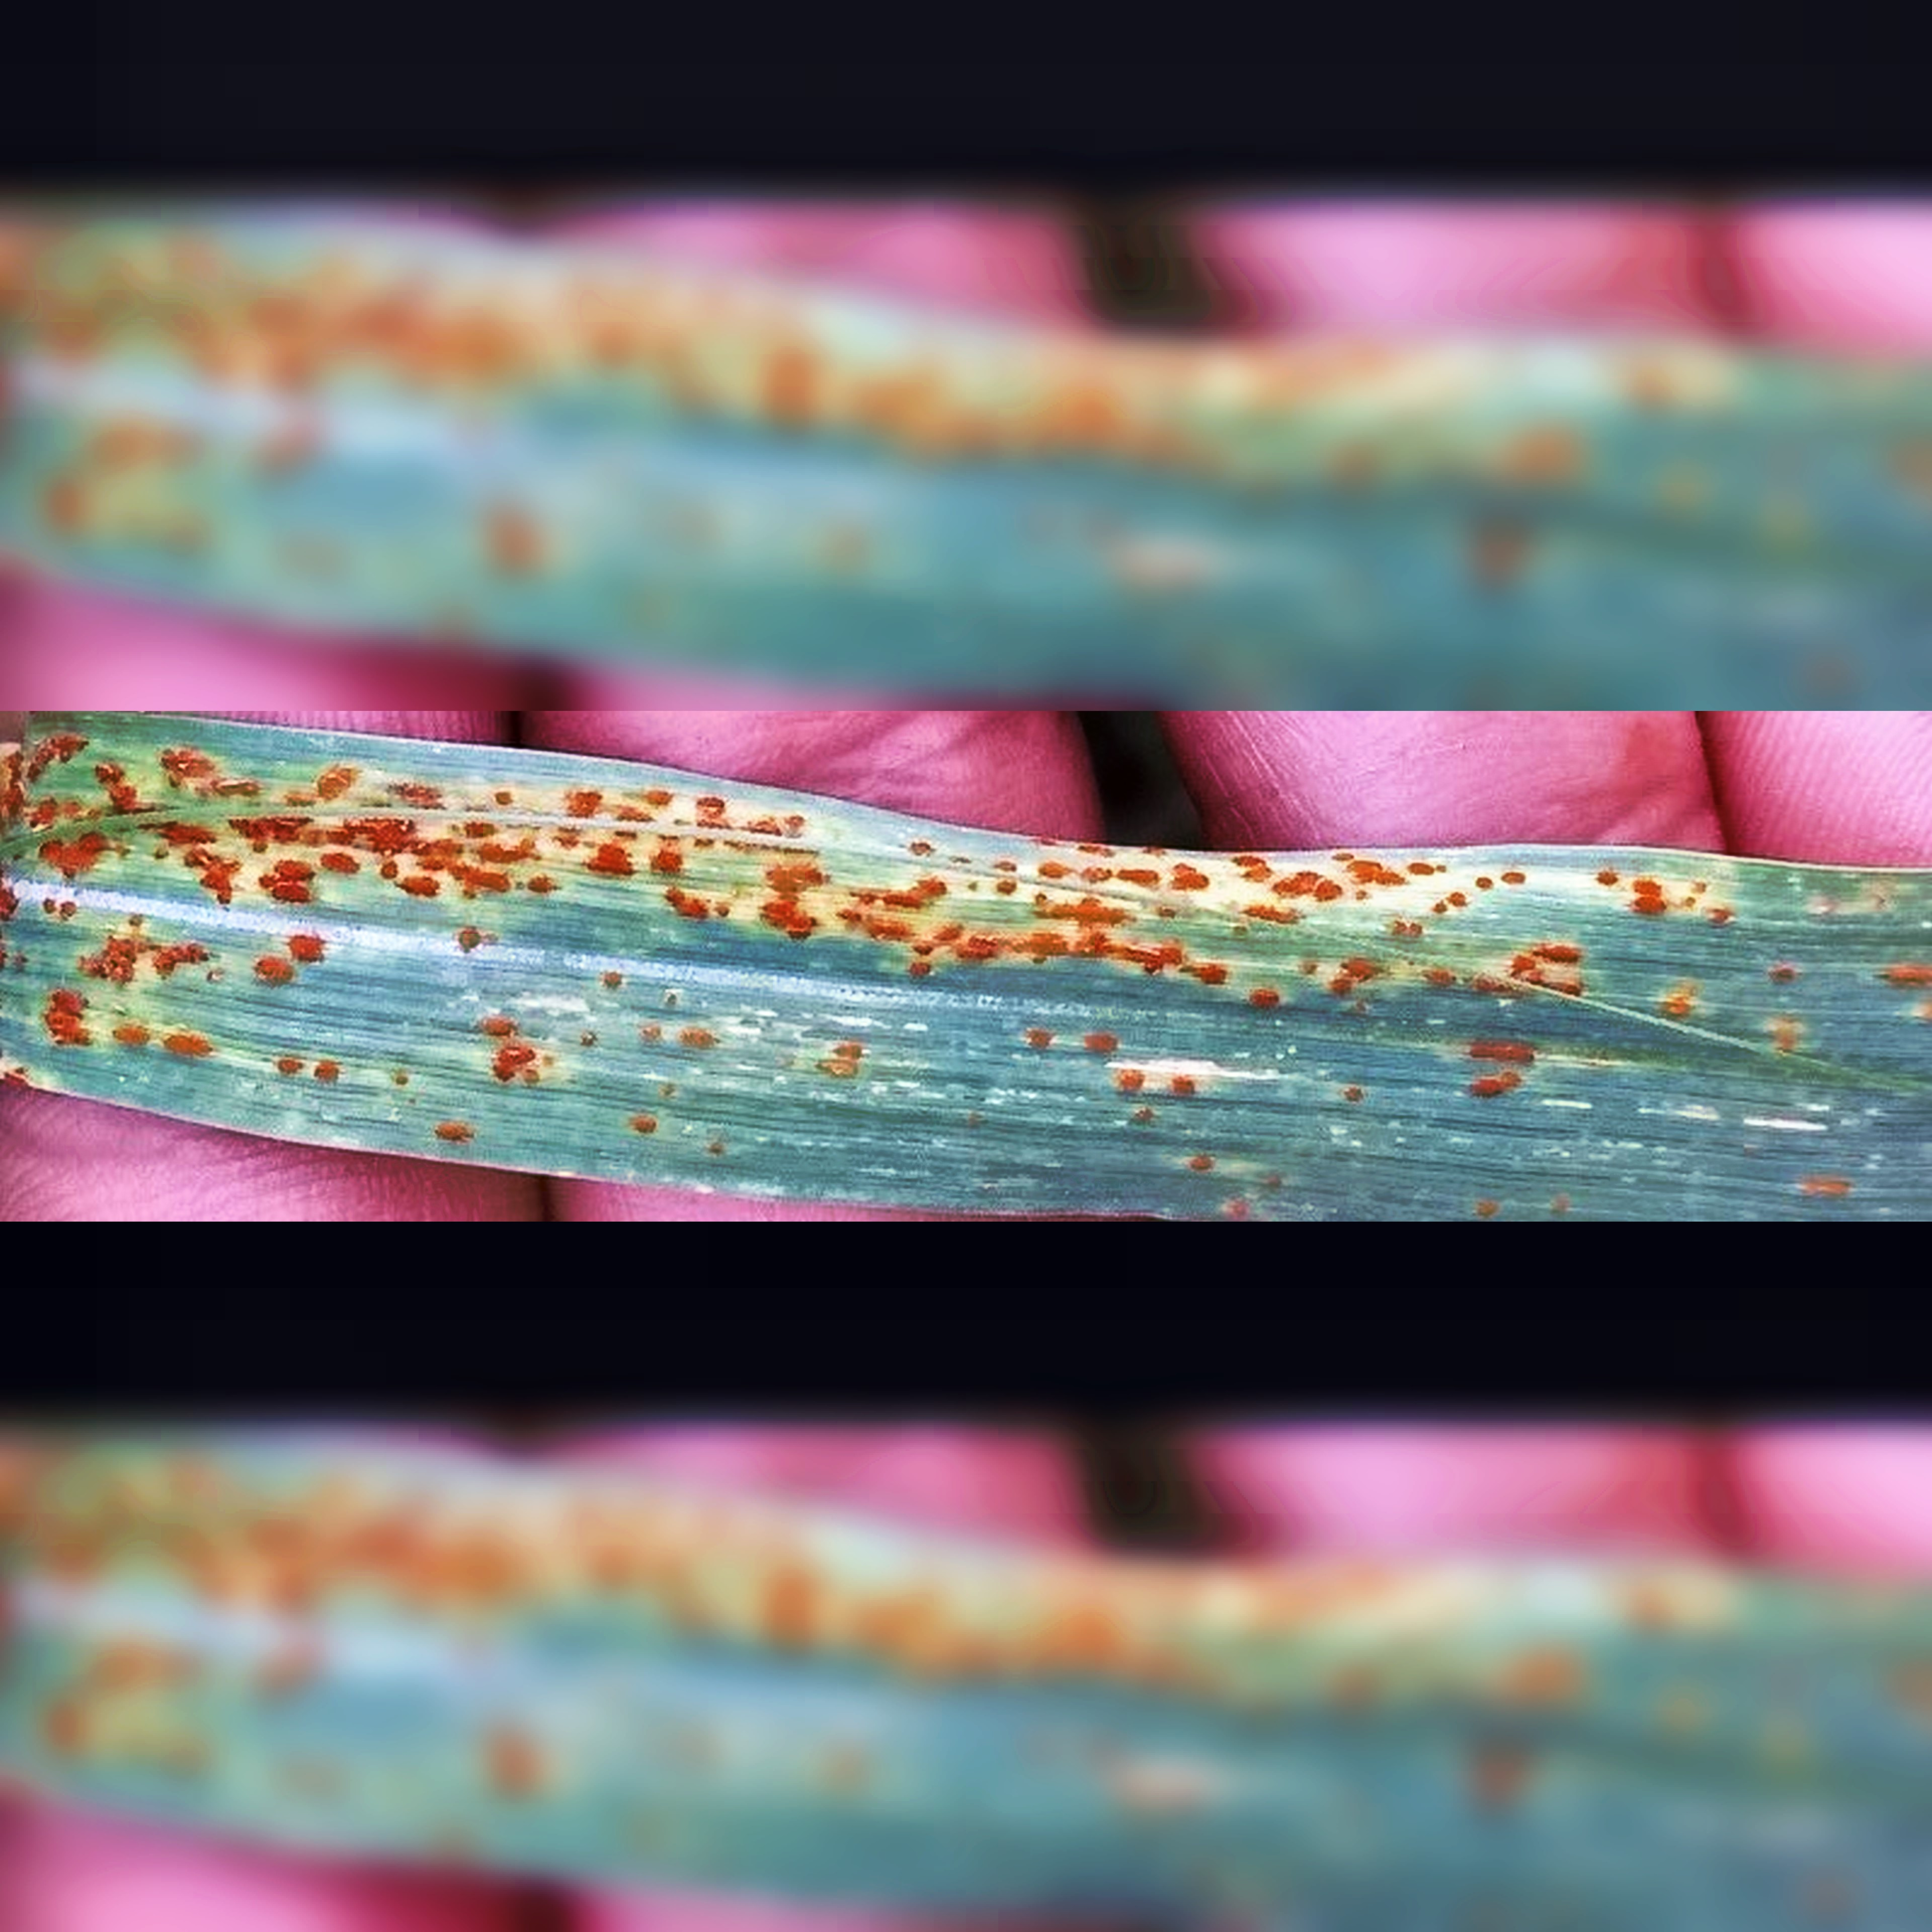Leaf Rust: (23, 755, 1631, 1240)
